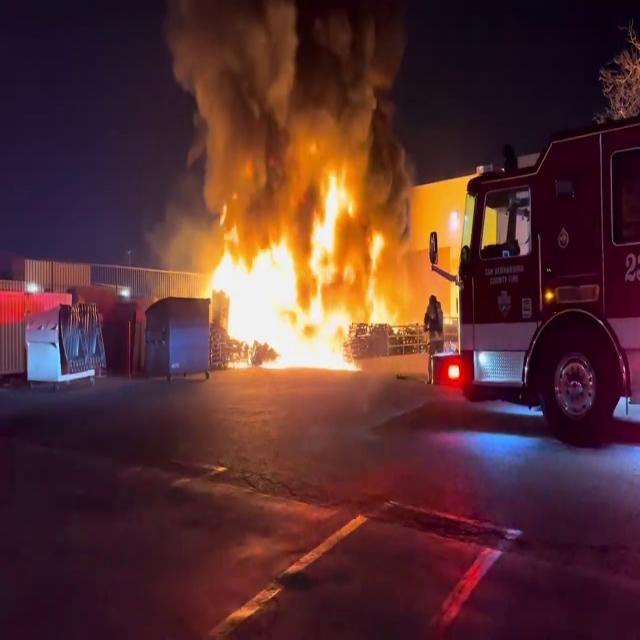Fire: (200, 158, 393, 368)
Smoke: (160, 0, 423, 200)
